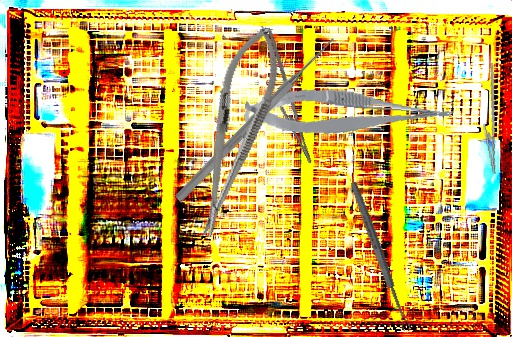Micro Scissor: (243, 79, 454, 150)
Needle Holder: (180, 19, 291, 244), (243, 29, 328, 169), (469, 62, 509, 176)
Pusher: (173, 33, 339, 205)
Surgical Spoon: (348, 181, 412, 332)
